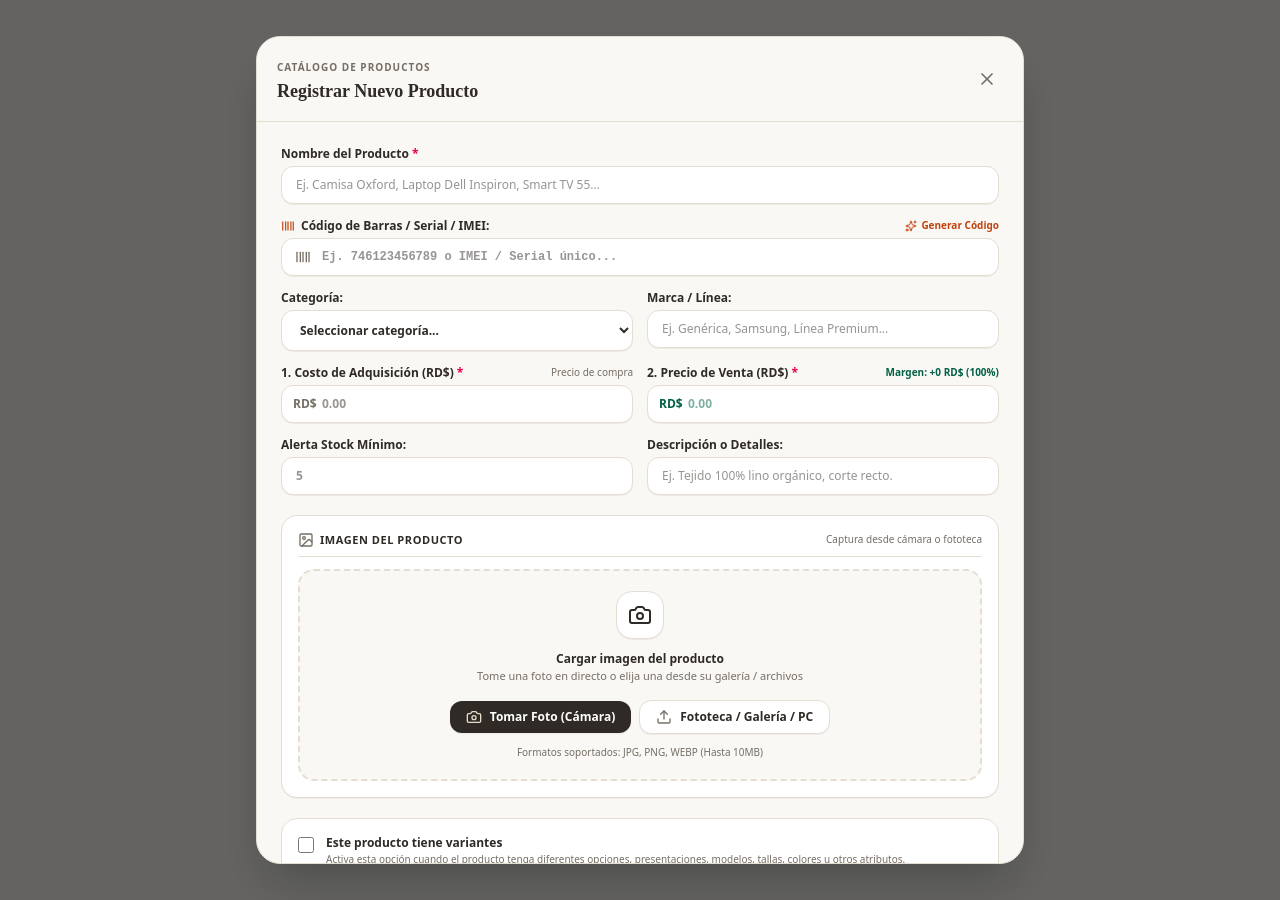
Test: ProductFormModal -- alta individual de una variante ("+ Agregar Variante") › agrega exactamente 1 variante nueva sin generar ninguna otra combinación
Click the checkbox labelled "Este producto tiene variantes" at x=306, y=845, box [298,837,314,853]
(page scrolled)
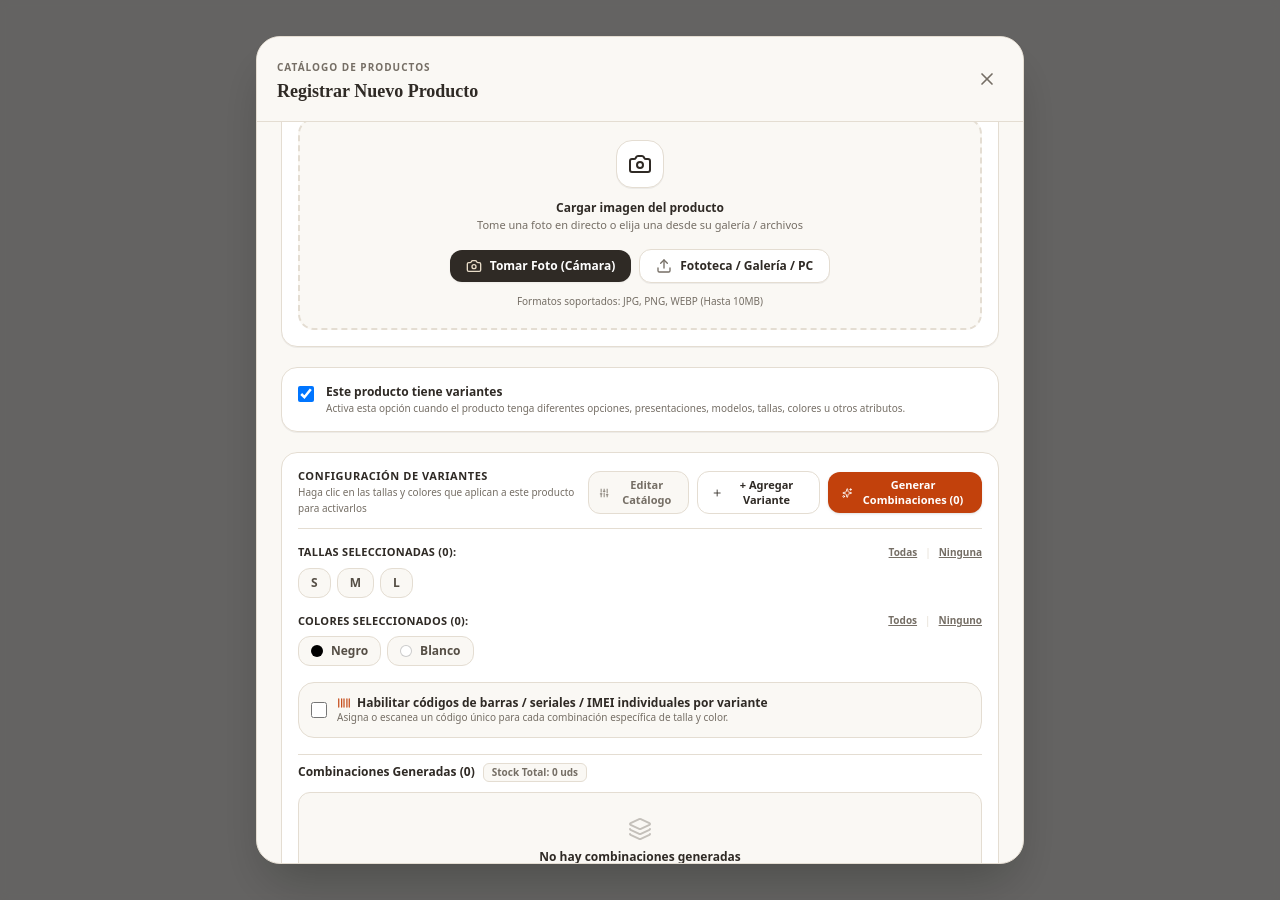
Click the button "+ Agregar Variante" at x=758, y=493, box [697,471,820,514]
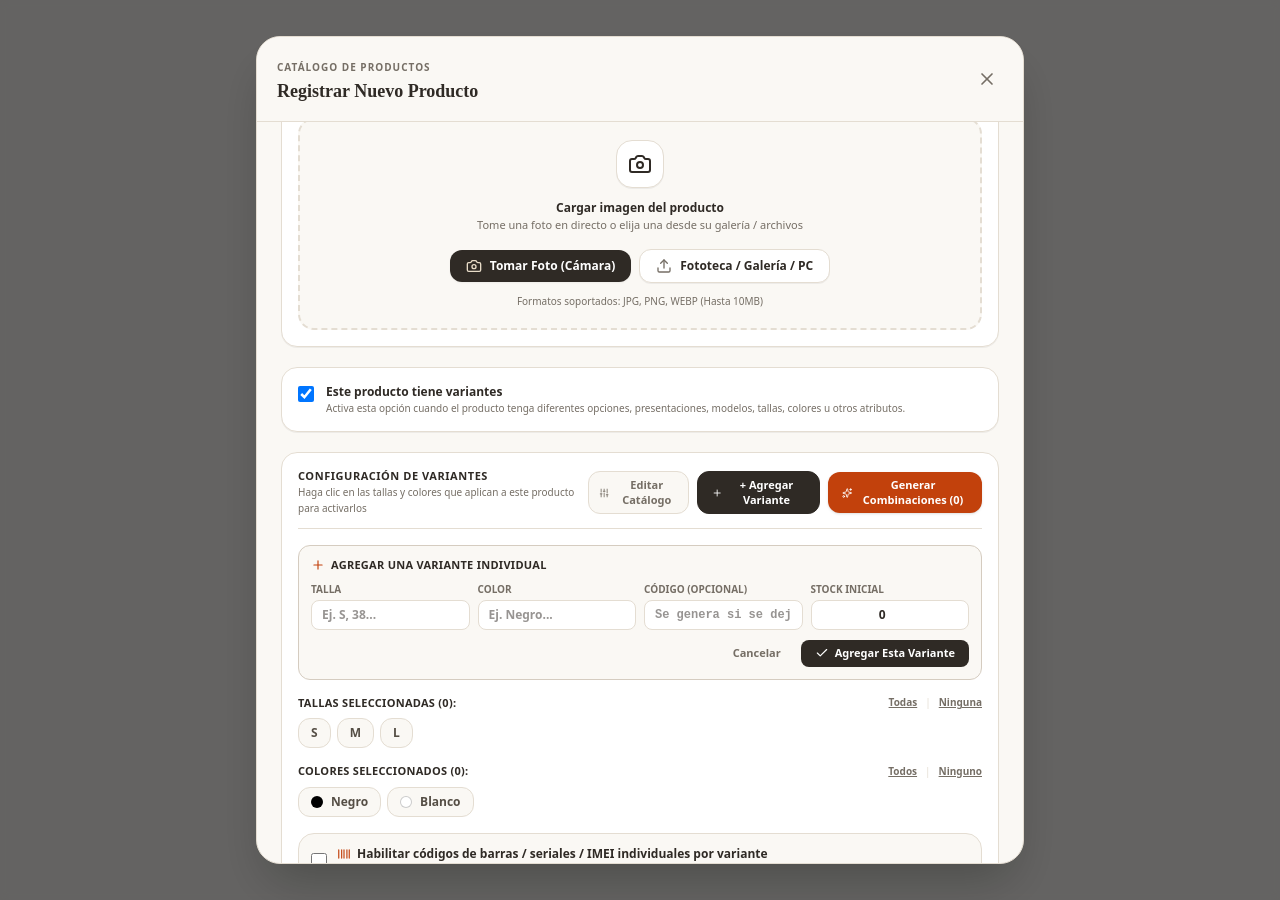
Type "S" into the field with placeholder "Ej. S, 38..." at x=390, y=615, box [311,600,470,630]
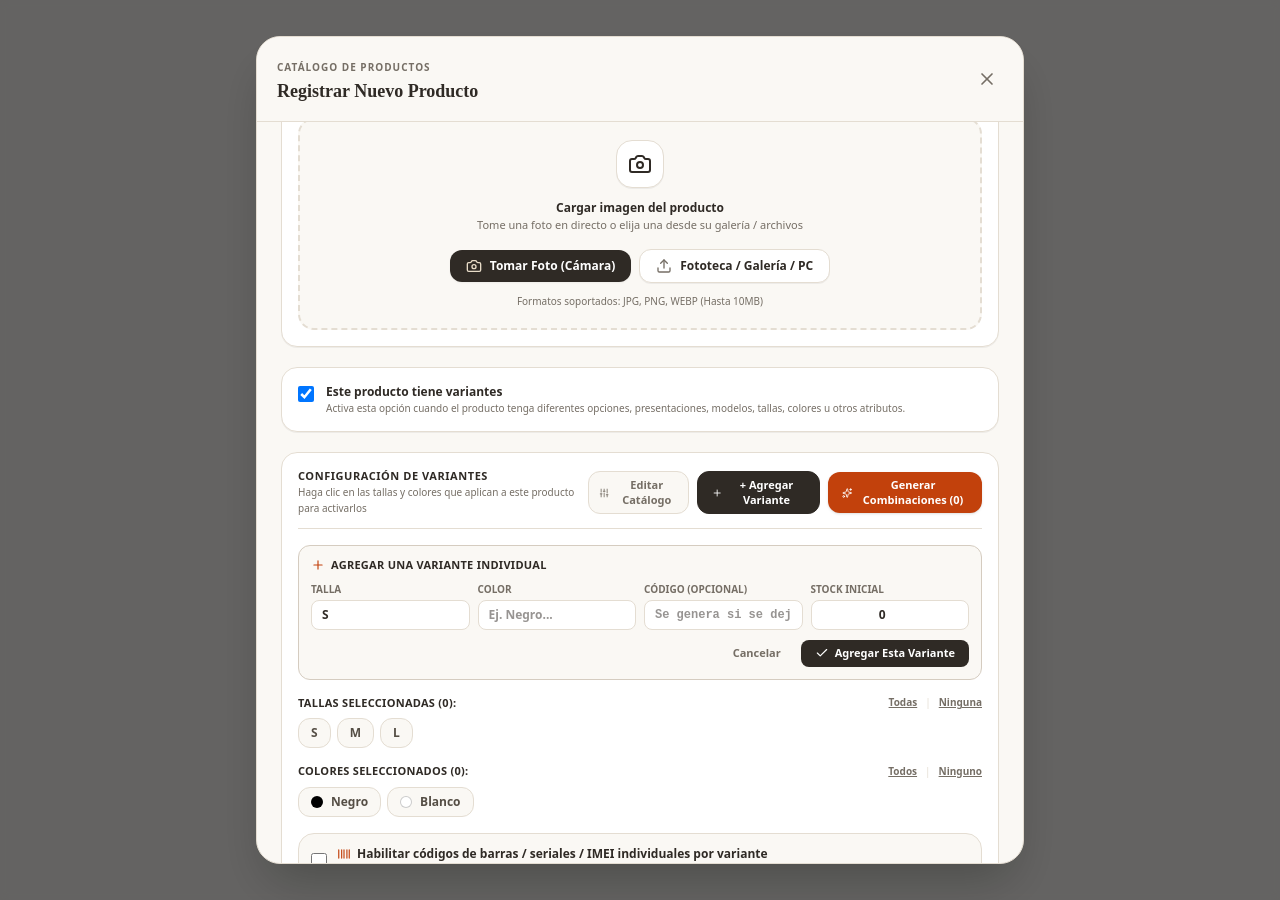
Type "Negro" into the field with placeholder "Ej. Negro..." at x=557, y=615, box [478,600,636,630]
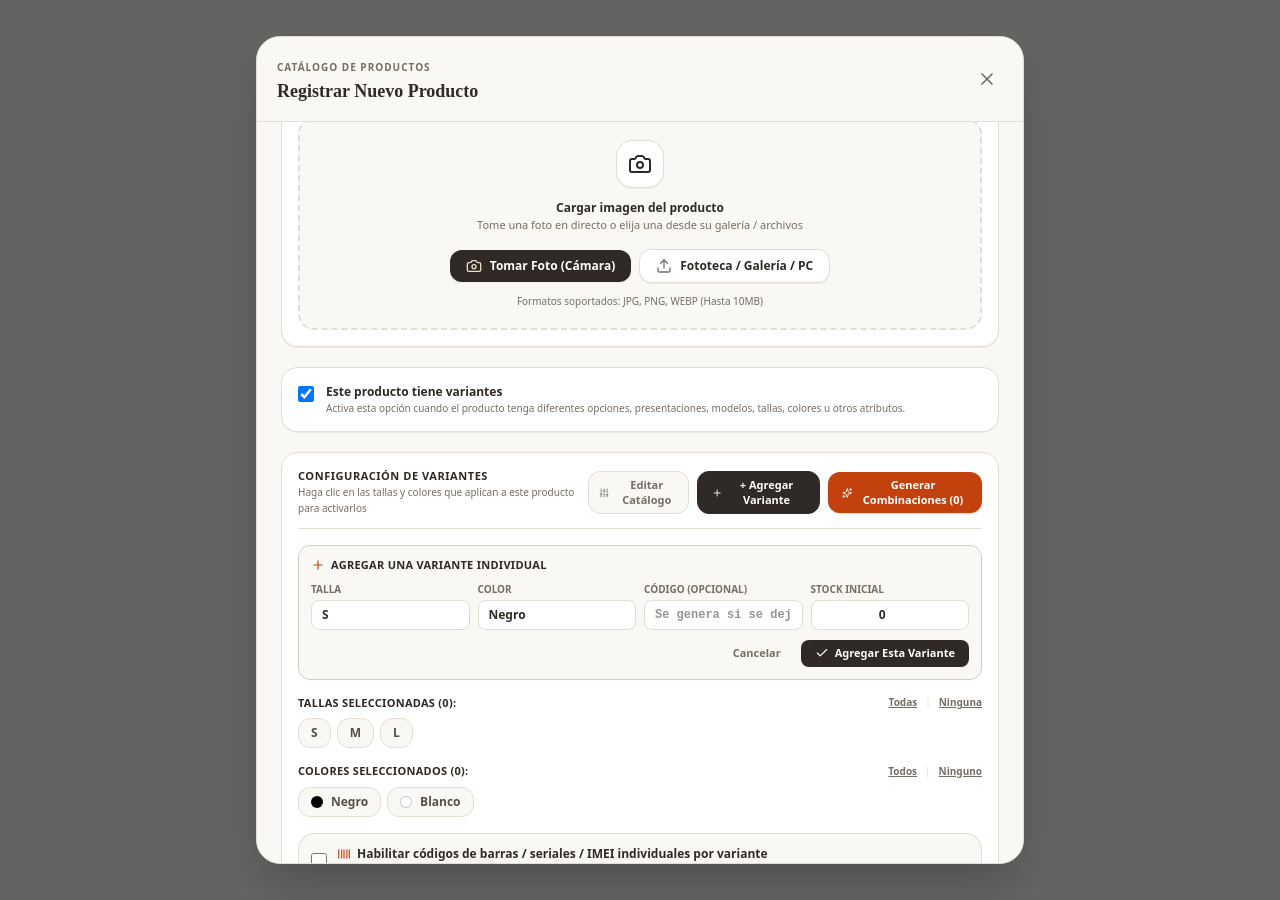
Click the button "Agregar Esta Variante" at x=885, y=653, box [801,640,969,667]
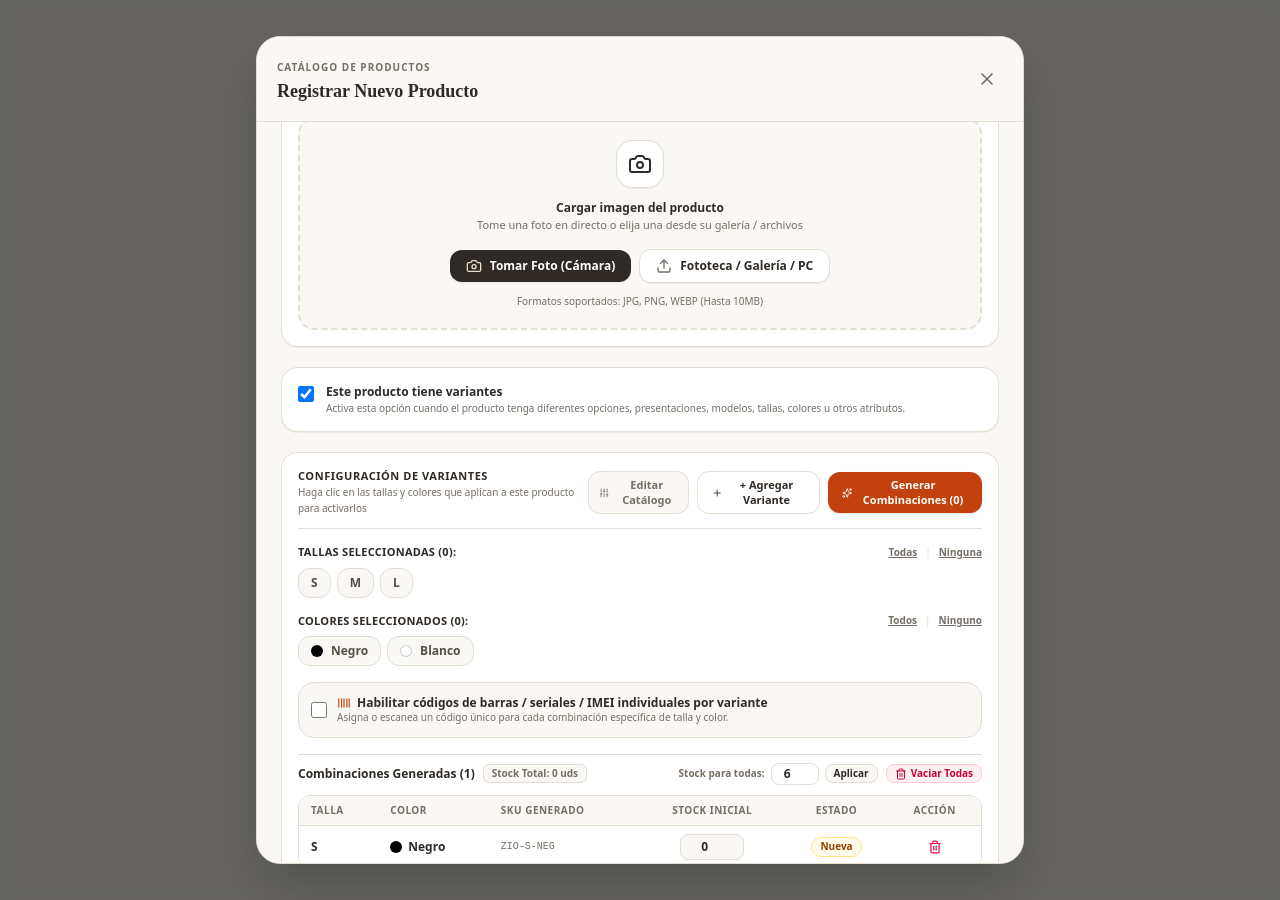
Now the text "Combinaciones Generadas (1)" is shown, box [298,766,475,782]
Now the text "S" is shown, box [299,825,378,863]
Now the text "Negro" next to "ZIO-S-NEG" is shown, box [408,838,445,855]
